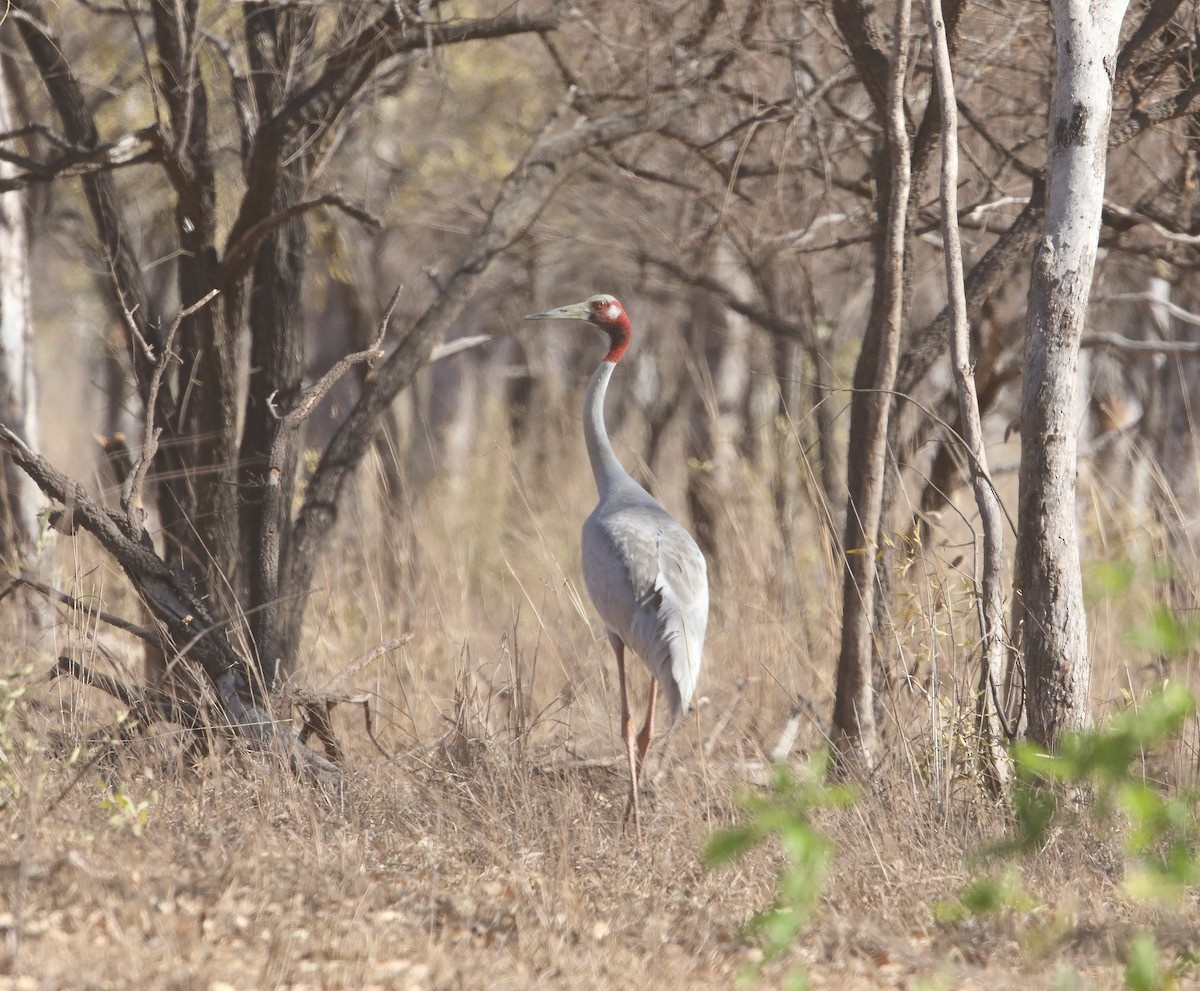crane: (518, 289, 750, 796)
